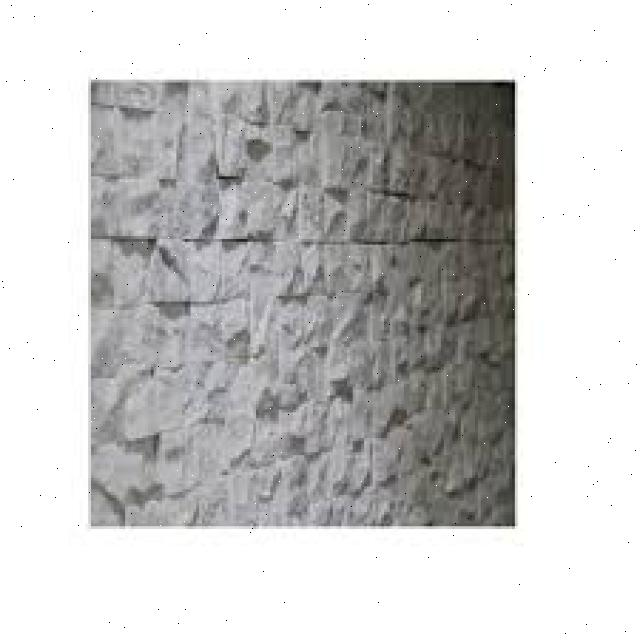Metamorphic: (91, 91, 509, 515)
